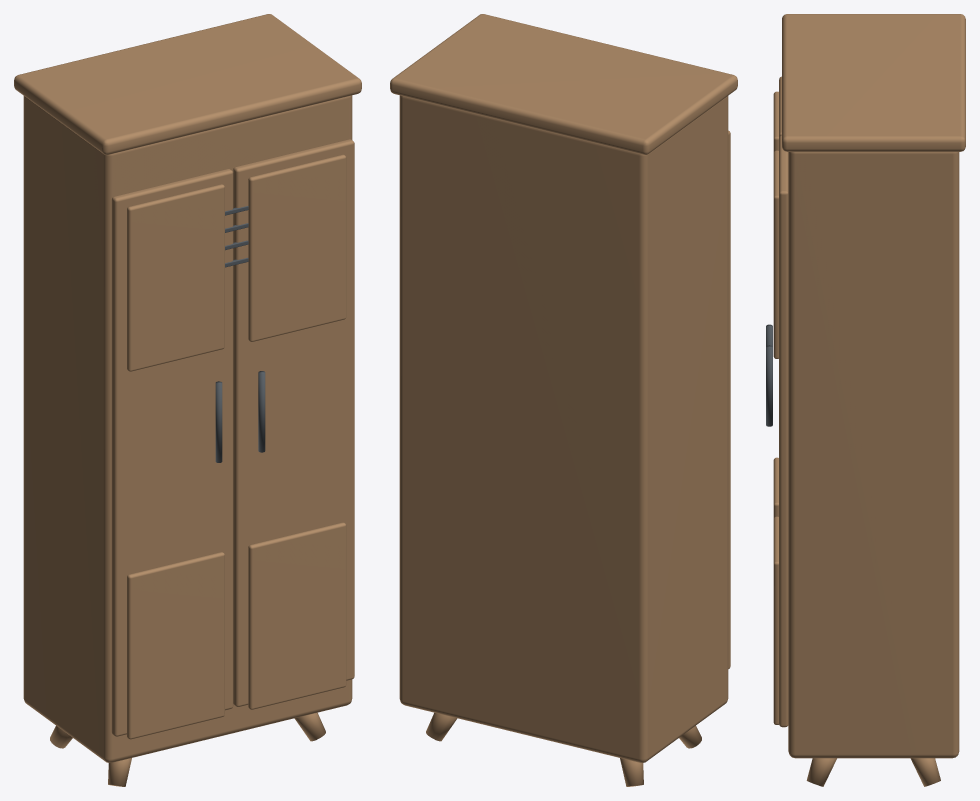
File: atelier-locker.glb
3 renders of one model, left to right at view 1: azimuth 30°, elevation 25°; view 2: azimuth 150°, elevation 25°; view 3: azimuth 270°, elevation 25°, orthographic.
Visible parts, largest first — view 1: legs.093, metal.037; view 2: legs.093; view 3: legs.093, metal.037.
Part boxes in pixels (left/top/right/bottom): legs.093: left=14, top=14, right=361, bottom=786; metal.037: left=215, top=206, right=265, bottom=462; legs.093: left=390, top=14, right=737, bottom=786; legs.093: left=773, top=14, right=965, bottom=786; metal.037: left=766, top=324, right=772, bottom=426.
Size of the model in its own units: 0.785 by 1.93 by 0.5265.
